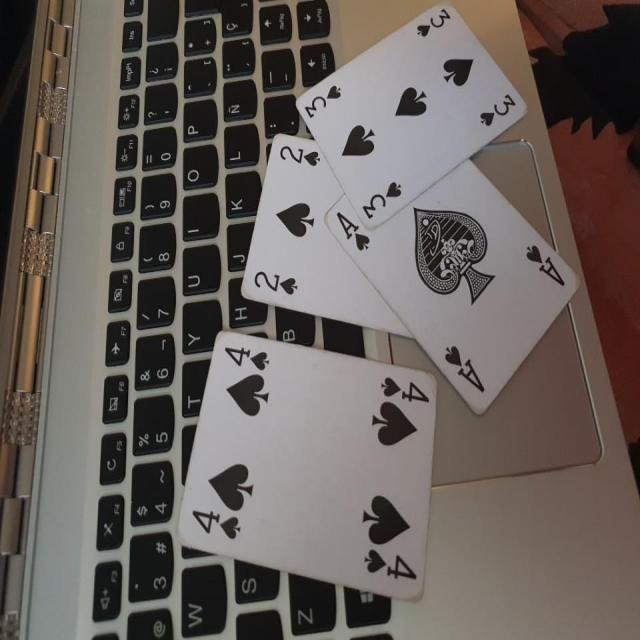2 Spades: (241, 130, 447, 330)
3 Spades: (289, 7, 535, 235)
4 Spades: (177, 327, 441, 610)
A Spades: (323, 150, 587, 422)
